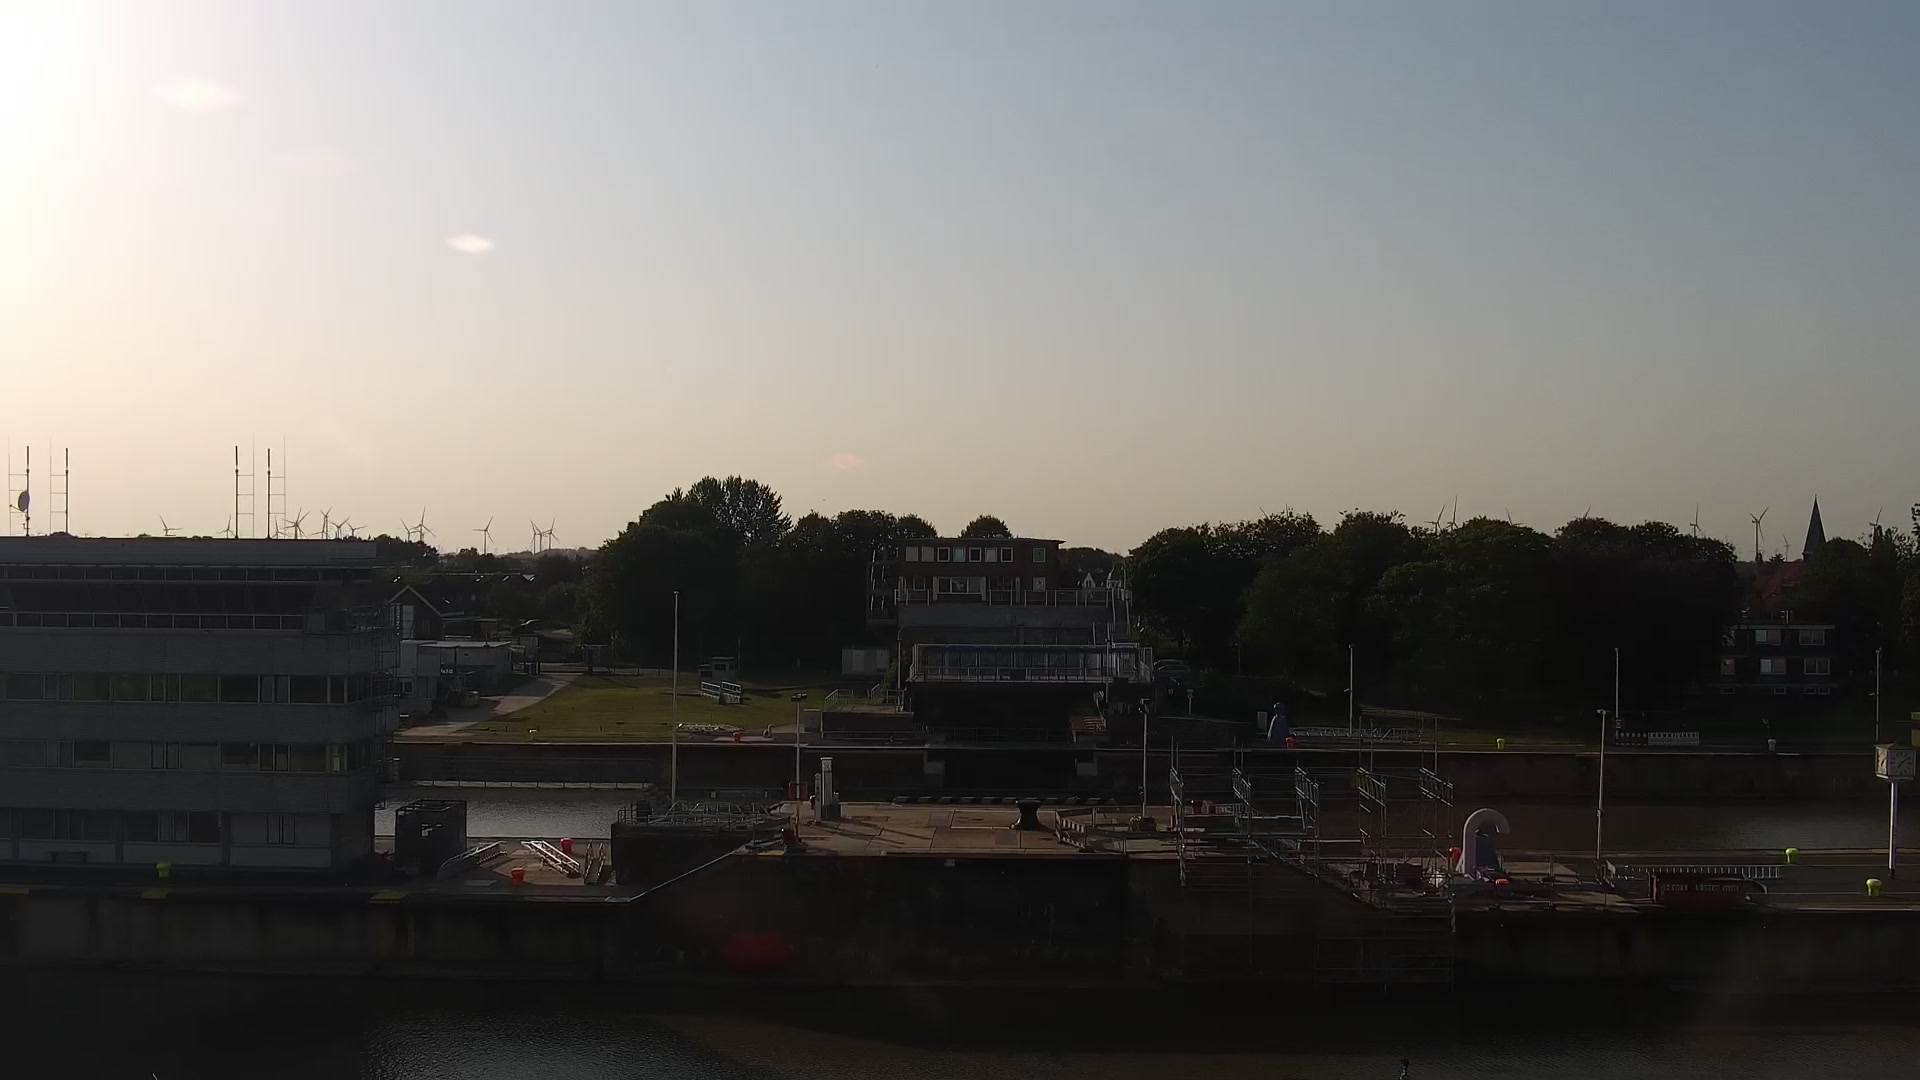land: (520, 618, 542, 630)
